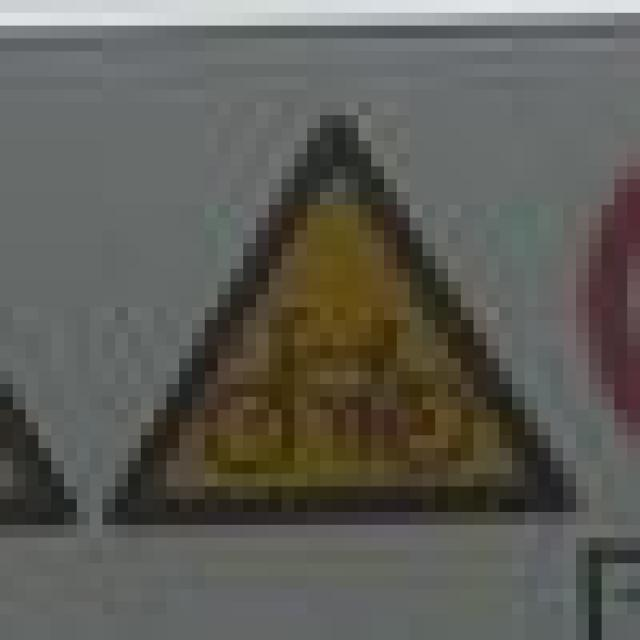CYCLE_CROSSING: (90, 90, 563, 512)
